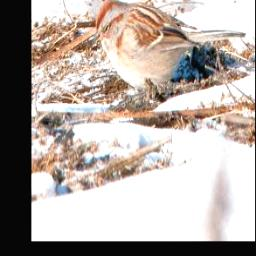Sparrow: (91, 0, 246, 110)
